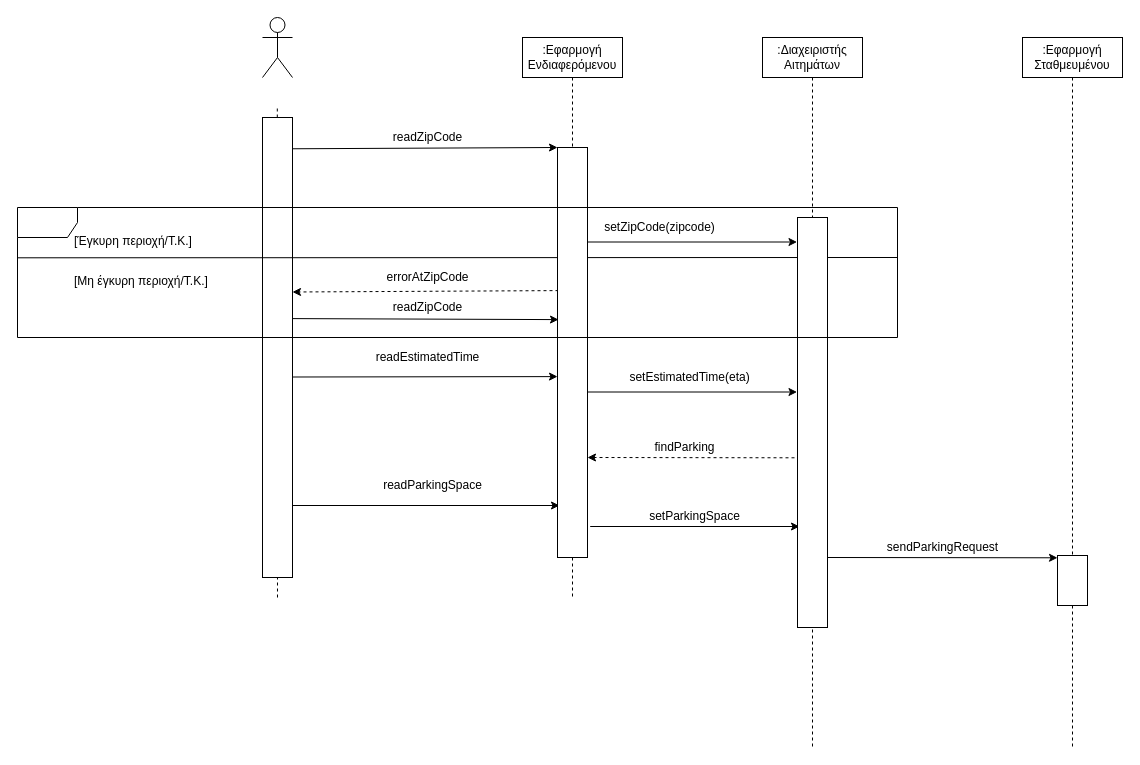
Some shapes in this 1140 by 765 pixel diagram are drawn without their labels. The centre of each missing label's shape, as x and y in pixels:
":Ενδιαφερόμενος" goes at (x=277, y=47).
"alt" goes at (x=457, y=272).
